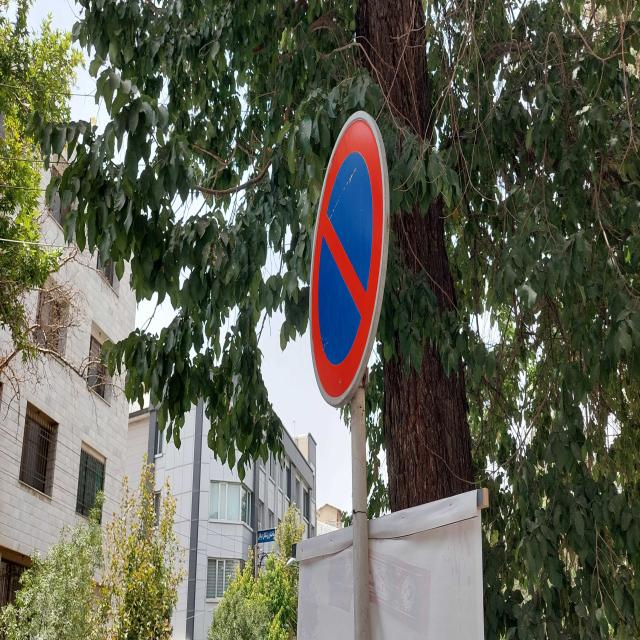forb_stopping: (309, 111, 389, 409)
